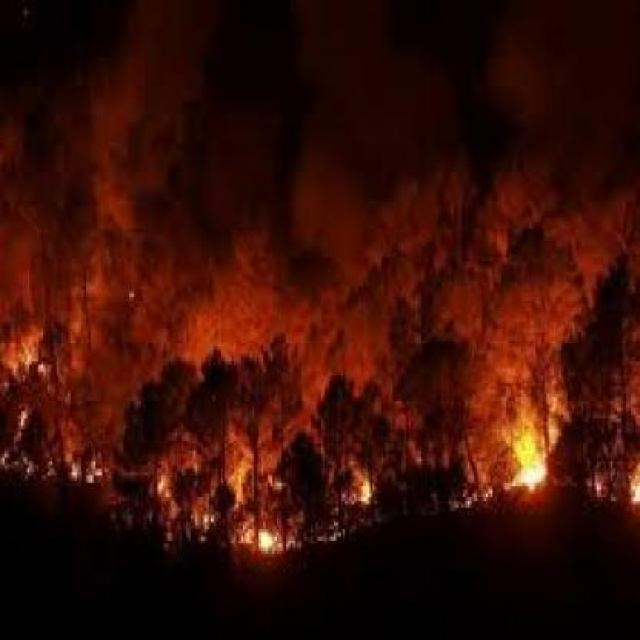Fire: (381, 411, 640, 523), (166, 466, 342, 564)
Smoke: (0, 0, 640, 361)
